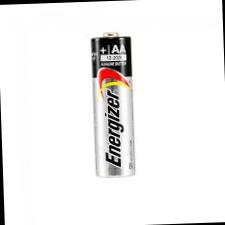battery: (74, 20, 148, 190)
